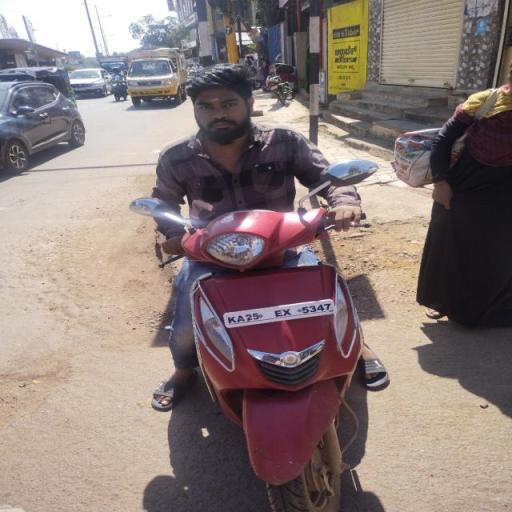bike: (117, 59, 406, 512)
numberplate: (218, 288, 340, 331)
withouthelmet: (182, 60, 256, 140)
